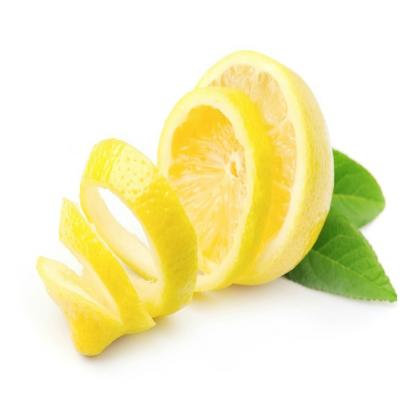--: (29, 47, 402, 380)
